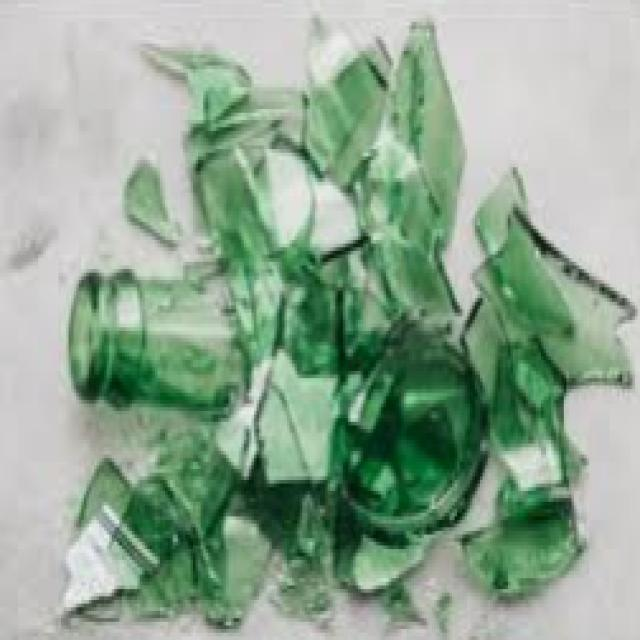PecahanKaca: (65, 11, 638, 614), (68, 266, 248, 414)
